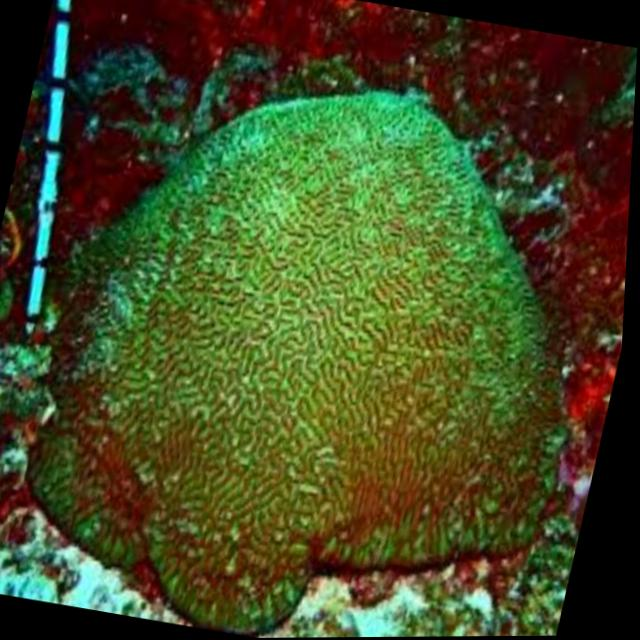Healthy Coral: (0, 35, 638, 630)
